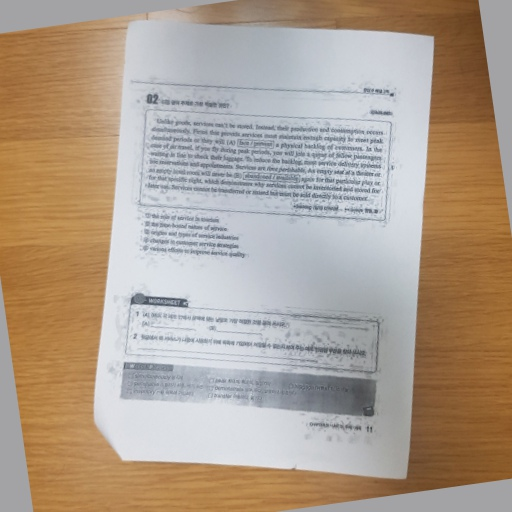Paper_2: (90, 17, 432, 493)
